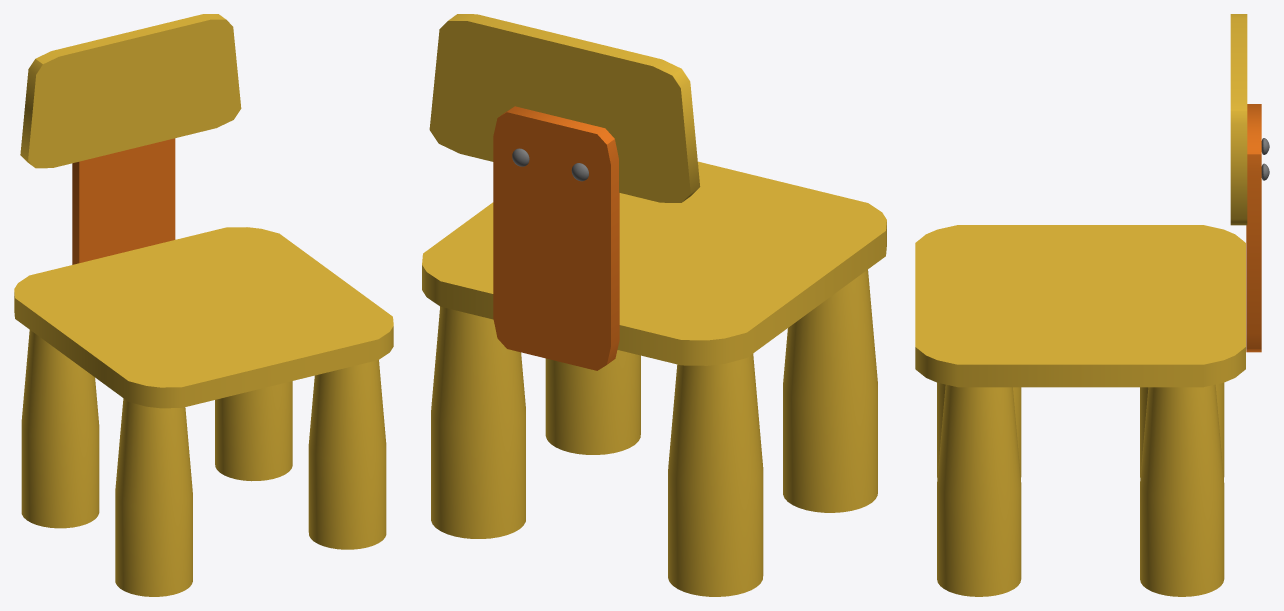
Rendered from chair.fbx.
3 views of the same model, side by side, from view 1: azimuth 30°, elevation 25°; view 2: azimuth 150°, elevation 25°; view 3: azimuth 270°, elevation 25° (orthographic). The views are drawn at different scales.
Parts seen in each view (by area): view 1: Circle, Plane, Plane.002, Plane.001; view 2: Circle, Plane, Plane.001, Plane.002; view 3: Plane, Circle, Plane.001, Plane.002.
Part boxes in pixels (x1,y1,x2,y2): Circle: [21, 330, 386, 596]; Plane: [14, 227, 393, 408]; Plane.002: [20, 14, 241, 168]; Plane.001: [72, 138, 175, 264]; Circle: [431, 269, 877, 596]; Plane: [422, 161, 886, 365]; Plane.001: [493, 106, 619, 370]; Plane.002: [429, 14, 700, 202]; Plane: [915, 225, 1245, 387]; Circle: [937, 382, 1224, 596]; Plane.001: [1246, 104, 1261, 352]; Plane.002: [1230, 14, 1247, 225].
Size of the model in its own units: 70.1 by 110 by 75.13.
